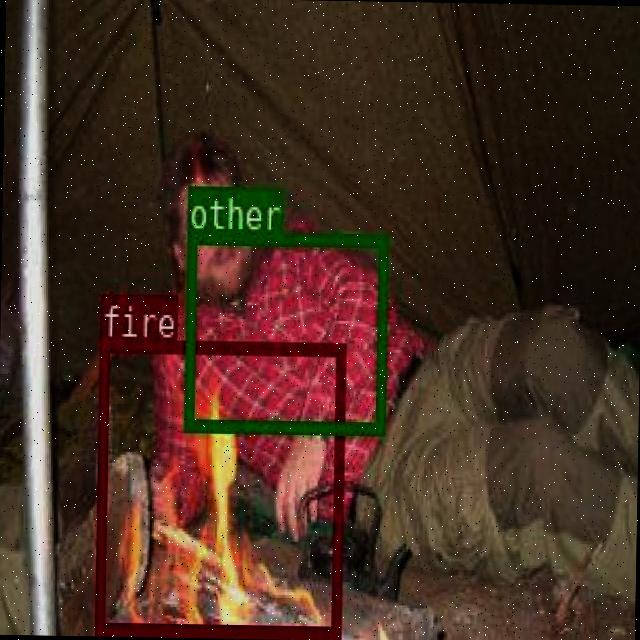fire: (94, 338, 342, 634)
